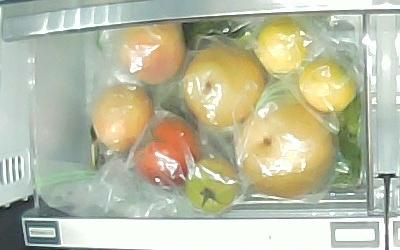peach_vinyl: (119, 18, 186, 84), (91, 83, 153, 153)
pear_vinyl: (241, 99, 337, 198), (183, 45, 266, 128)
tangerine_vinyl: (254, 20, 308, 75), (299, 59, 355, 112)
tomato_vinyl: (135, 119, 200, 186), (184, 158, 239, 213)
